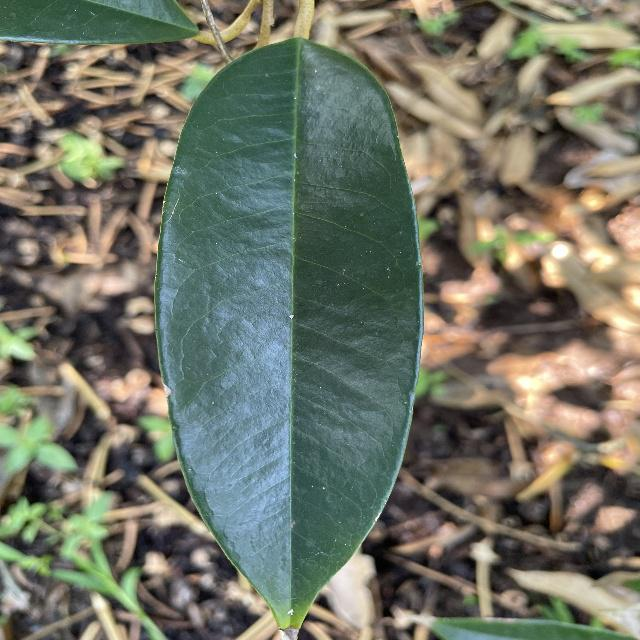No Disease: (147, 31, 432, 639)
